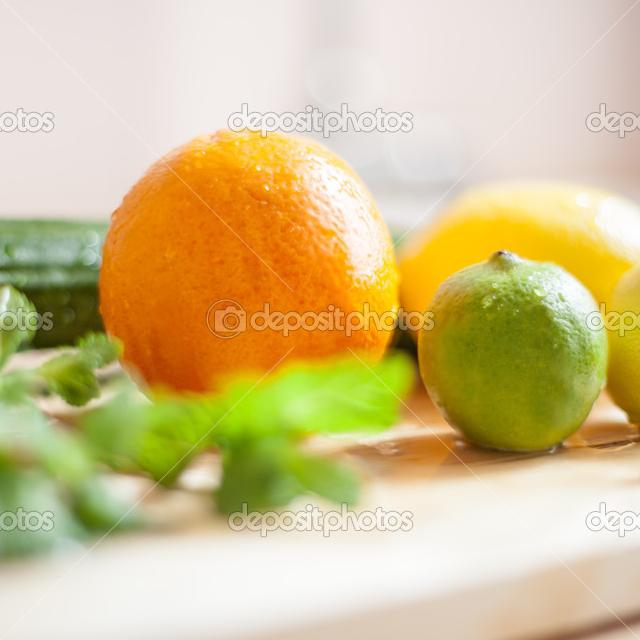lime: (415, 244, 617, 466), (593, 239, 640, 445)
